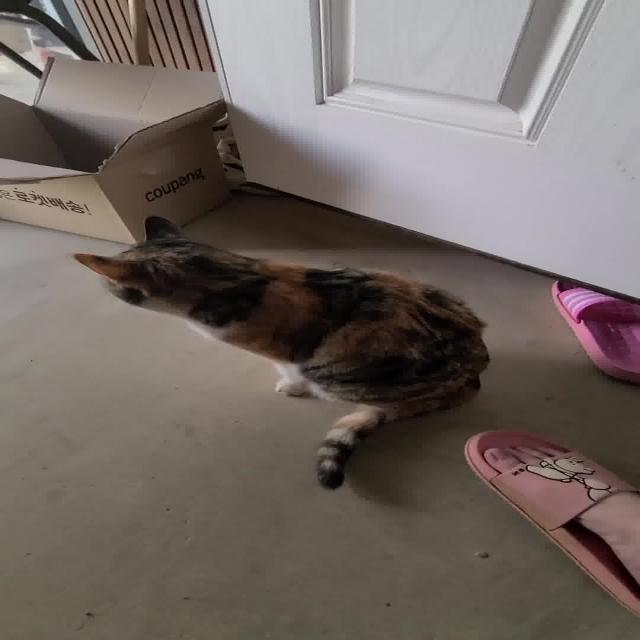cat: (72, 210, 493, 492)
